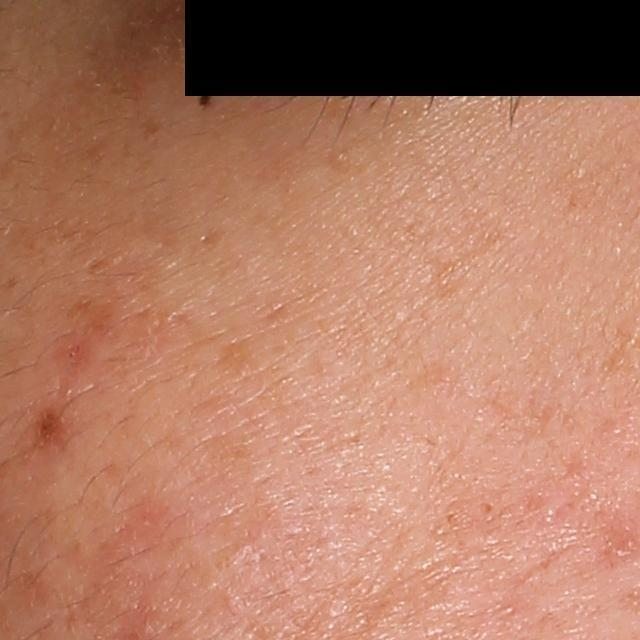nevus: (196, 89, 218, 112)
